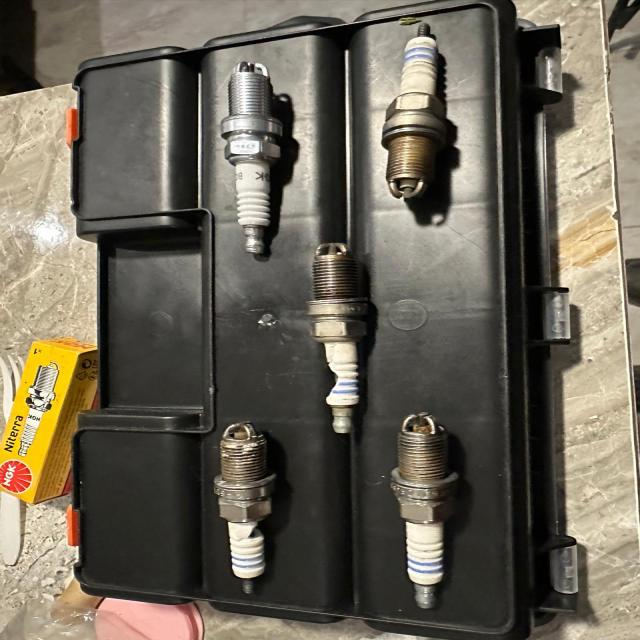damaged_spark-plug: (299, 236, 376, 443), (209, 420, 279, 599)
spark-plug: (381, 27, 464, 216), (391, 411, 464, 615), (232, 62, 287, 256)
